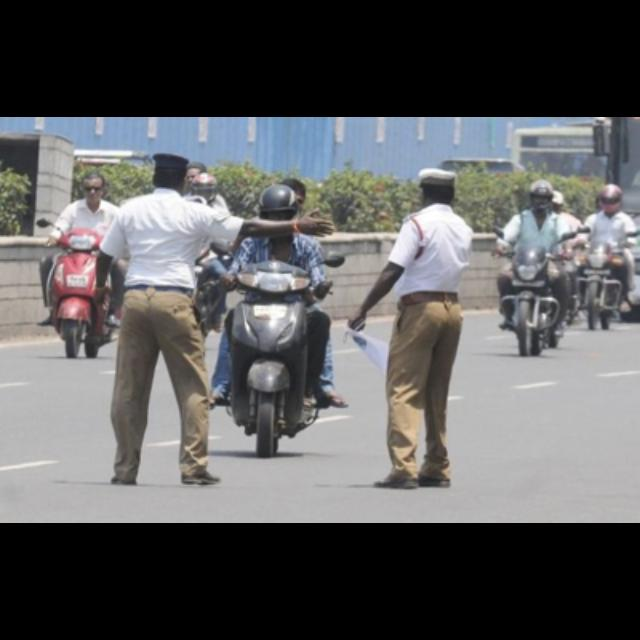With Helmet: (588, 176, 630, 216), (524, 172, 558, 216)
Without Helmet: (77, 166, 109, 204)
